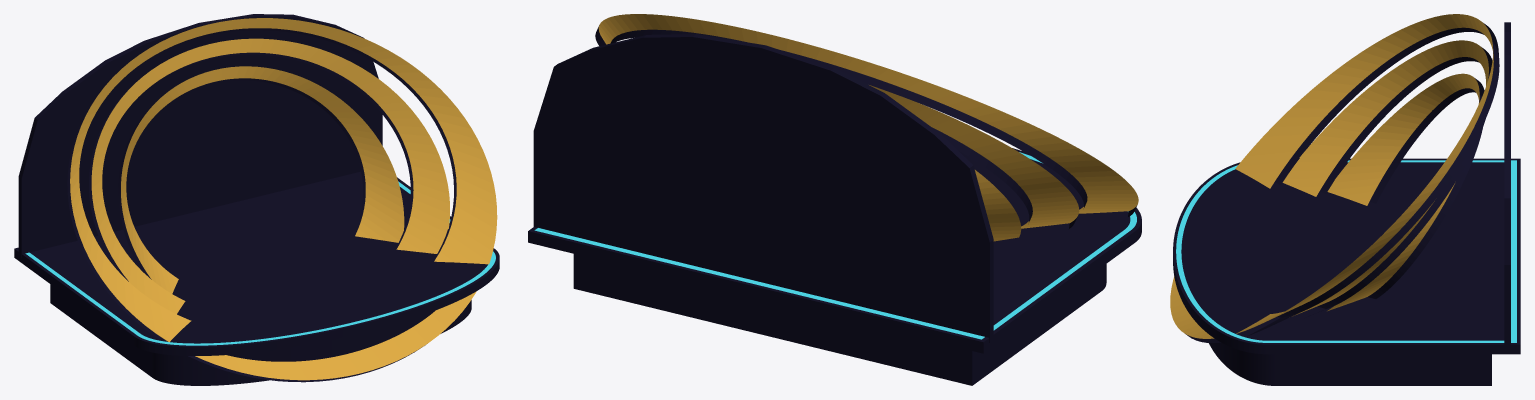
The model's file is stage_golden.glb.
3 views of the same model, side by side, from view 1: azimuth 30°, elevation 25°; view 2: azimuth 150°, elevation 25°; view 3: azimuth 270°, elevation 25° (orthographic). The views are drawn at different scales.
Visible parts, largest first — view 1: Cylinder, Cylinder.001, Cube.001; view 2: Cube.001, Cylinder, Cylinder.001; view 3: Cylinder, Cylinder.001, Cube.001.
Part boxes in pixels (x1,y1,x2,y2): Cylinder: (14,171,499,385); Cylinder.001: (67,18,497,382); Cube.001: (18,14,382,258); Cube.001: (533,34,993,342); Cylinder: (528,148,1141,385); Cylinder.001: (595,14,1138,241); Cylinder: (1173,158,1520,385); Cylinder.001: (1170,14,1499,342); Cube.001: (1504,22,1510,348).
Size of the model in its own units: 22.06 by 12.94 by 15.86.
